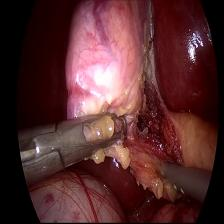Grasper: (16, 110, 135, 179)
Irrigator: (161, 159, 209, 202)
